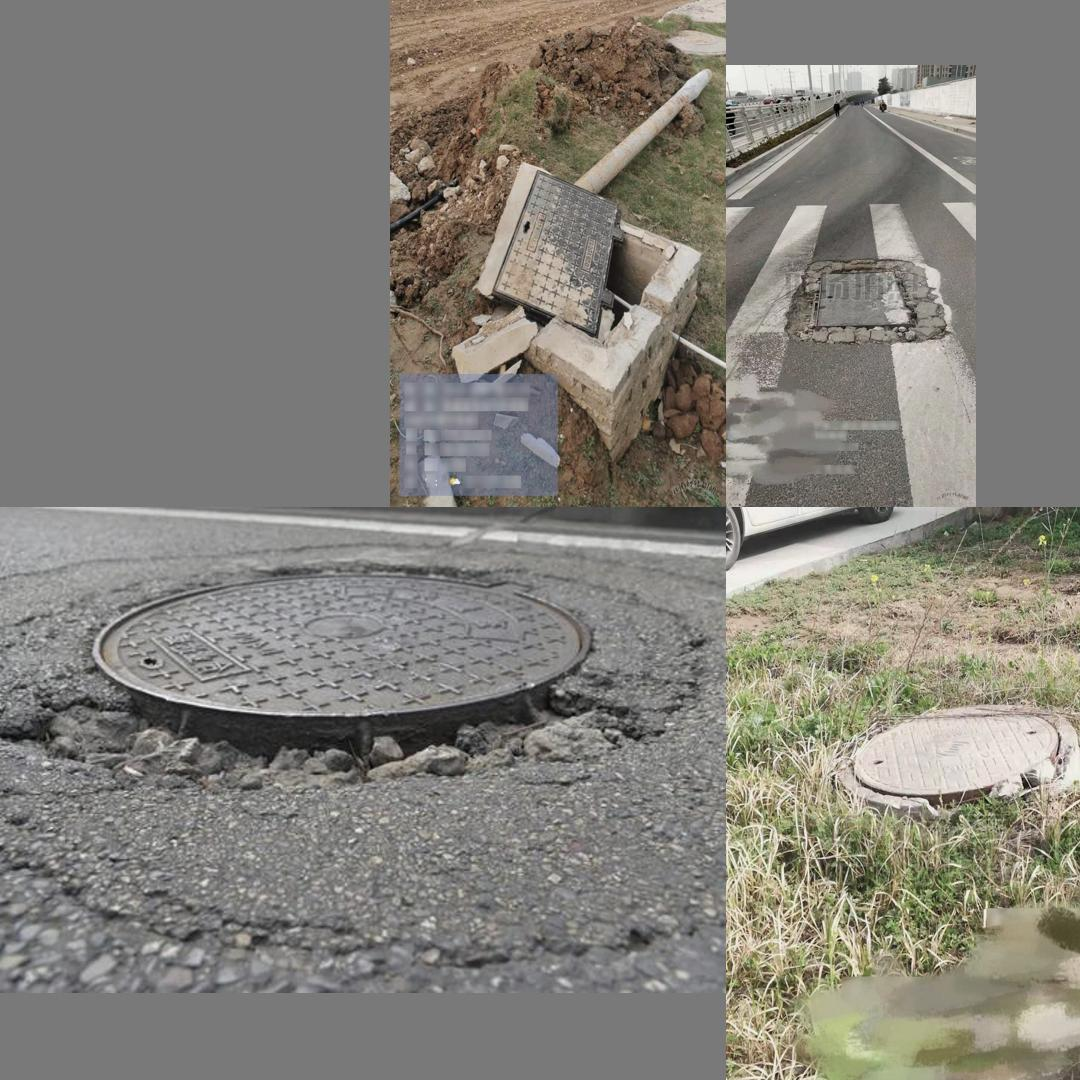circle: (8, 552, 700, 806), (458, 159, 686, 375), (822, 375, 1077, 507), (820, 697, 1080, 820)
